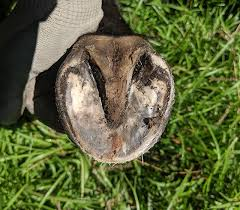horsesole: (54, 51, 176, 165)
